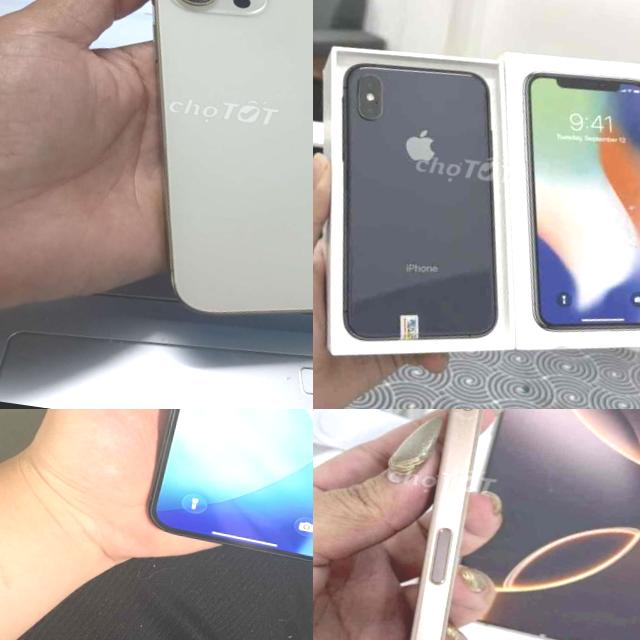gen_12_13: (97, 0, 313, 349), (150, 409, 313, 588)
gen_16: (350, 409, 544, 640)
gen_x_xs: (313, 35, 545, 373)
